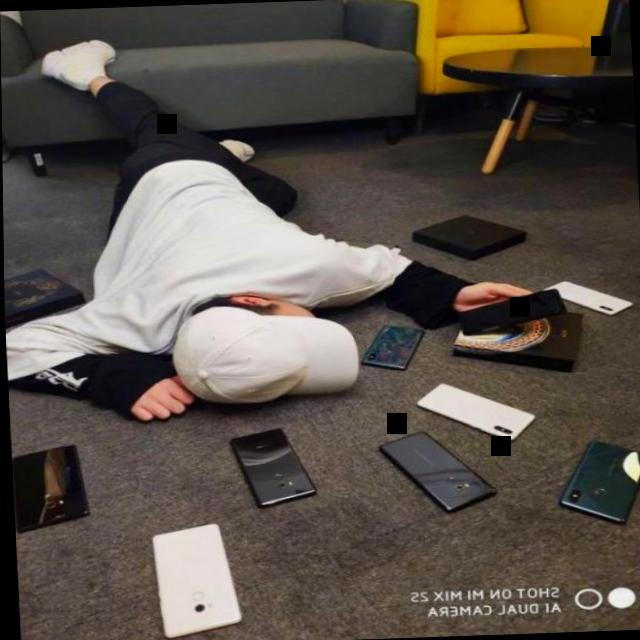Fall-Detected: (2, 23, 566, 461)
